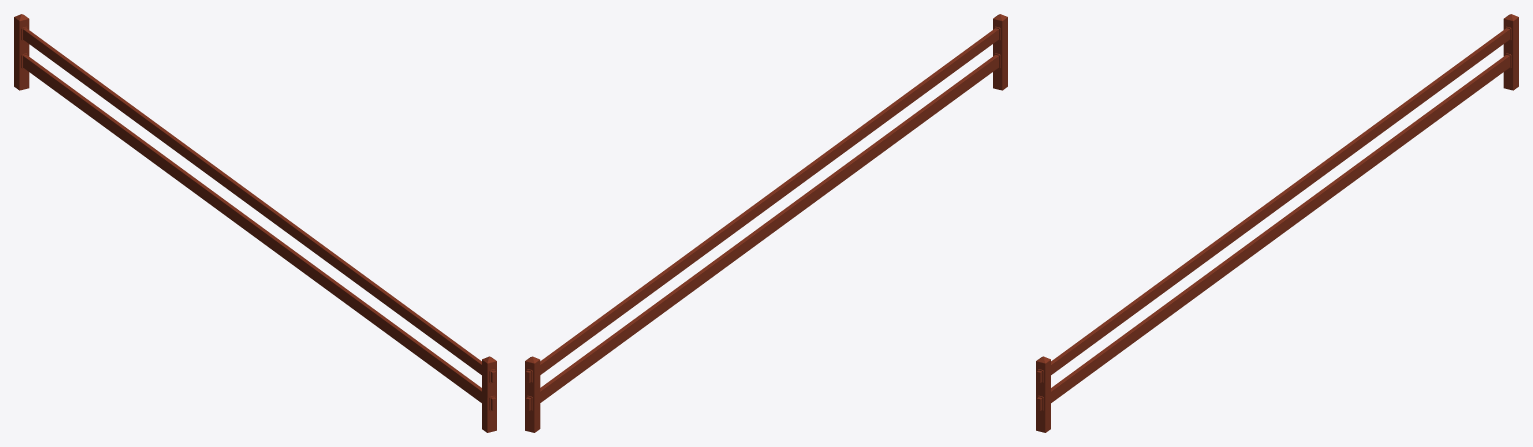
The model's file is Fence25(2).fbx.
The picture shows the model from 3 angles, left to right: view 1: azimuth 30°, elevation 25°; view 2: azimuth 150°, elevation 25°; view 3: azimuth 330°, elevation 25°; orthographic projection.
Parts seen in each view (by area): view 1: Fence25; view 2: Fence25; view 3: Fence25.
Part boxes in pixels (left/top/right/bottom): Fence25: left=14, top=14, right=496, bottom=432; Fence25: left=525, top=14, right=1007, bottom=432; Fence25: left=1036, top=14, right=1518, bottom=432.
Bounding box in the file's own units: 30 × 214 × 2526.
